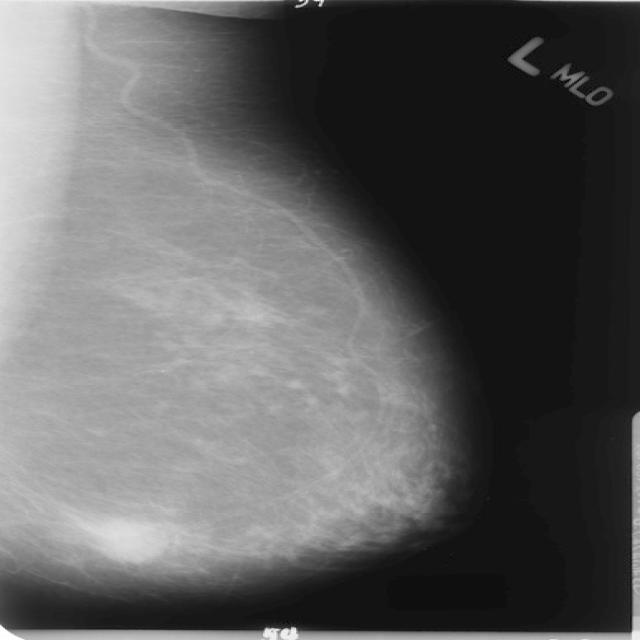tumour: (88, 519, 168, 560)
